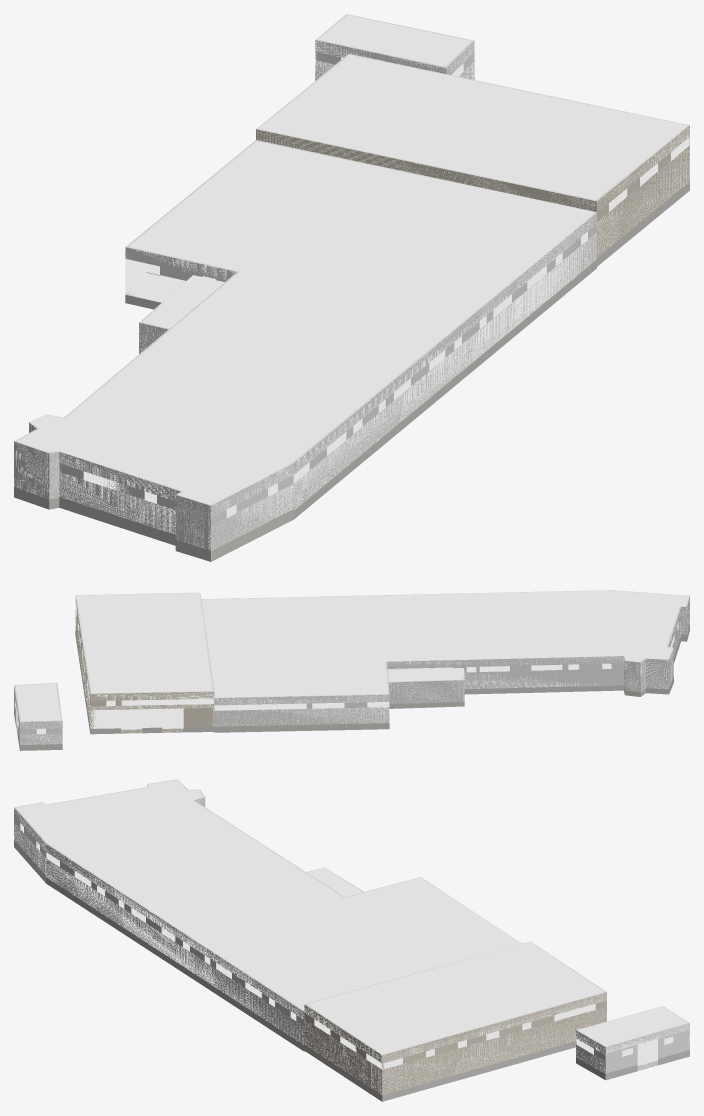
3 views of the same model, one above another, from view 1: azimuth 30°, elevation 25°; view 2: azimuth 150°, elevation 25°; view 3: azimuth 270°, elevation 25° (orthographic). The views are drawn at different scales.
Visible parts, largest first — view 1: col, bld; view 2: col, bld; view 3: col, bld.
Boxes of the visible parts, box(x1,y1,x2,y2) form: col: box(14, 14, 689, 556); bld: box(14, 14, 689, 561); col: box(15, 590, 689, 744); bld: box(14, 590, 689, 750); col: box(14, 779, 689, 1094); bld: box(14, 779, 689, 1101).
Size of the model in its own units: 110 by 8.58 by 111.
